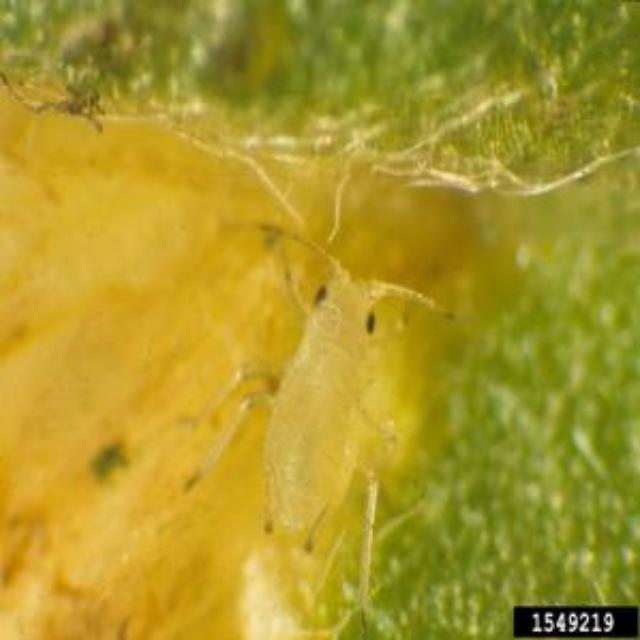Green peach aphid: (148, 171, 474, 605)
